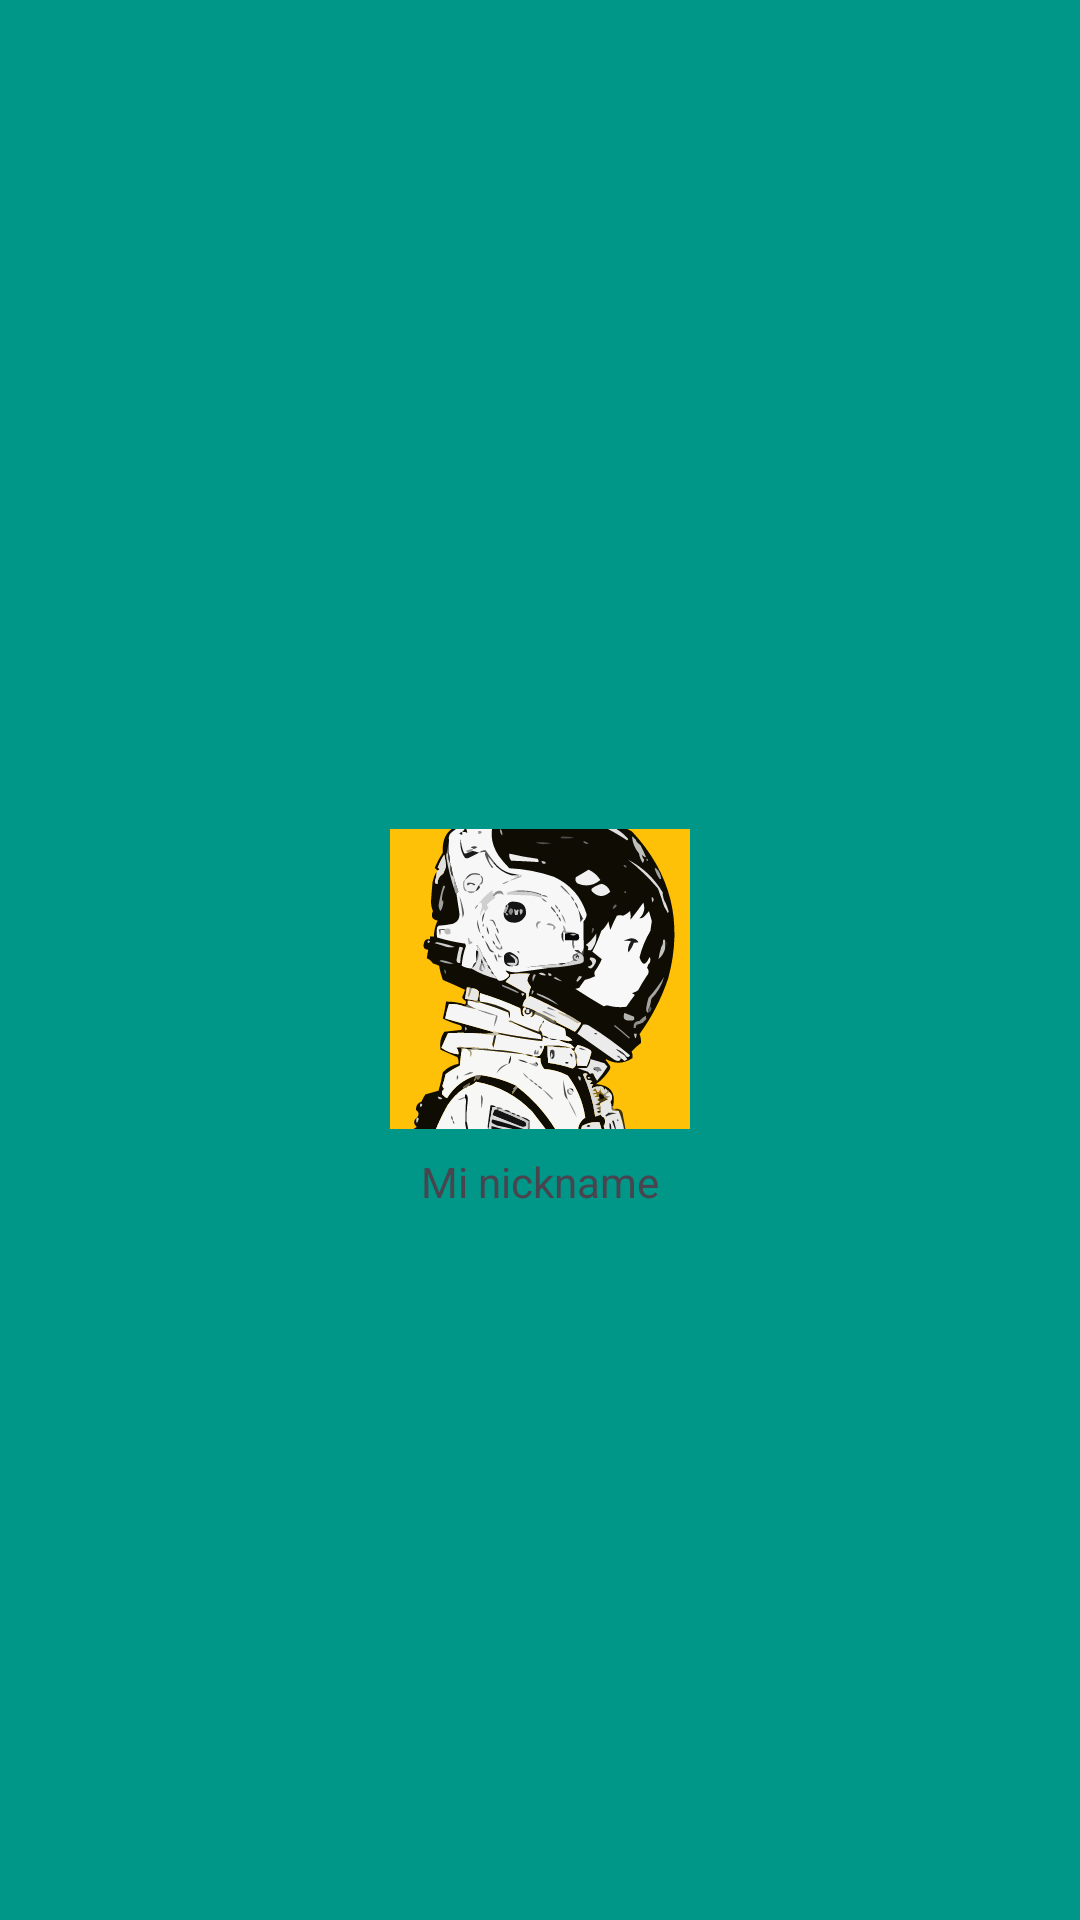

Icon bounding boxes for this 1080 × 1920 phone screenshot, format (x1, y1, x2, y2):
astro: (390, 829, 690, 1129)
